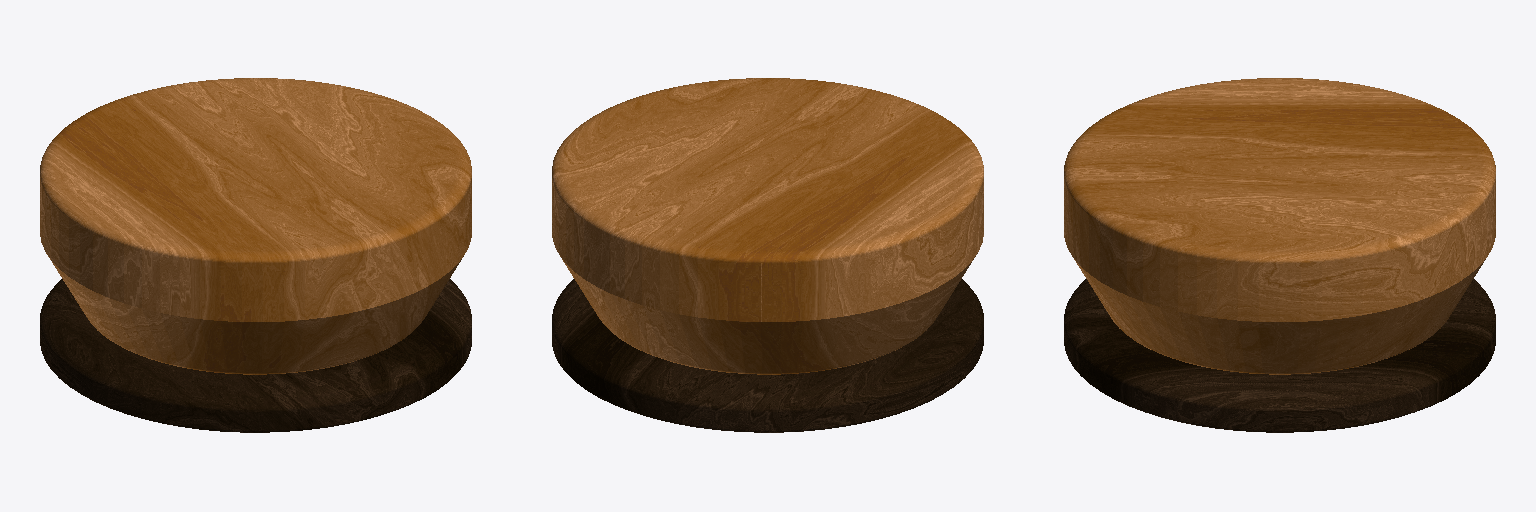
3 renders of one model, left to right at view 1: azimuth 30°, elevation 25°; view 2: azimuth 150°, elevation 25°; view 3: azimuth 270°, elevation 25°, orthographic.
Visible parts, largest first — view 1: PedestalTopPart_Cylinder.002, PedestalBottomPart_Cylinder.001; view 2: PedestalTopPart_Cylinder.002, PedestalBottomPart_Cylinder.001; view 3: PedestalTopPart_Cylinder.002, PedestalBottomPart_Cylinder.001.
Boxes of the visible parts, box(x1,y1,x2,y2) form: PedestalTopPart_Cylinder.002: box(40, 78, 471, 374); PedestalBottomPart_Cylinder.001: box(40, 279, 471, 432); PedestalTopPart_Cylinder.002: box(552, 78, 983, 374); PedestalBottomPart_Cylinder.001: box(552, 279, 983, 432); PedestalTopPart_Cylinder.002: box(1064, 78, 1495, 374); PedestalBottomPart_Cylinder.001: box(1064, 279, 1495, 432).
Size of the model in its own units: 0.15 by 0.0692 by 0.15.
2 materials, 2 textured.